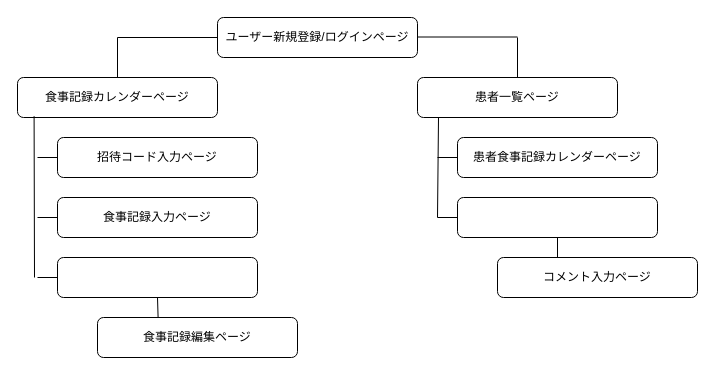
This 715x375 diagram has some shape labels left out. Here are the shapes that lost their labels. From the top down, the centre of each, then its label:
(557,217): 患者食事記録詳細ページ
(157,277): 食事記録詳細ページ
